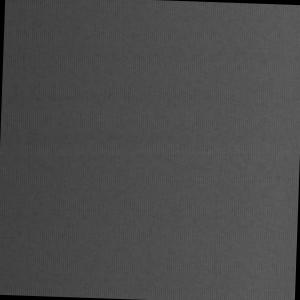Wrinkle: (1, 126, 258, 175), (2, 84, 217, 119)
